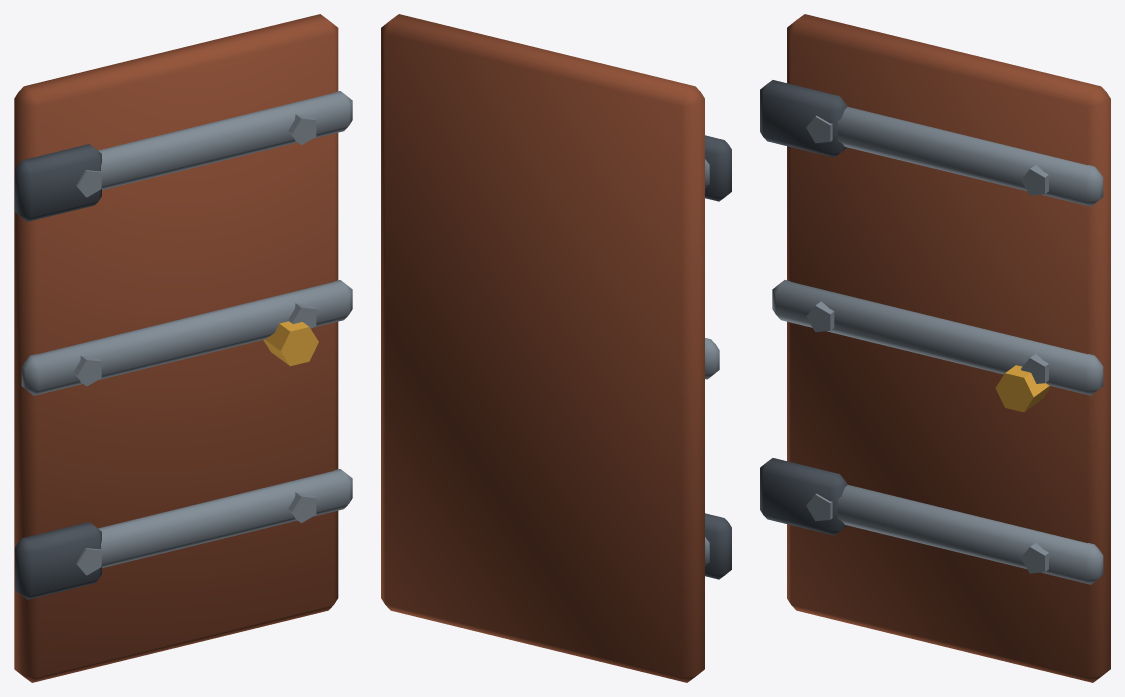
The model's file is Door_Studded.glb.
3 views of the same model, side by side, from view 1: azimuth 30°, elevation 25°; view 2: azimuth 150°, elevation 25°; view 3: azimuth 330°, elevation 25° (orthographic).
Visible parts, largest first — view 1: Door_Studded; view 2: Door_Studded; view 3: Door_Studded.
Part boxes in pixels (box(x1,y1,x2,y2)): Door_Studded: box(14, 14, 352, 682); Door_Studded: box(381, 14, 731, 682); Door_Studded: box(760, 14, 1110, 682).
Size of the model in its own units: 0.702 by 1.18 by 0.14.
